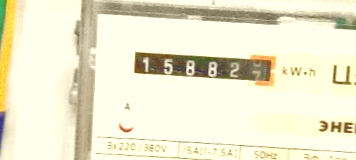1: (139, 55, 151, 74)
2: (227, 60, 240, 78)
5: (160, 57, 174, 75)
7: (249, 68, 261, 82)
8: (183, 58, 196, 76), (206, 60, 217, 77)
screen: (125, 40, 282, 92)
